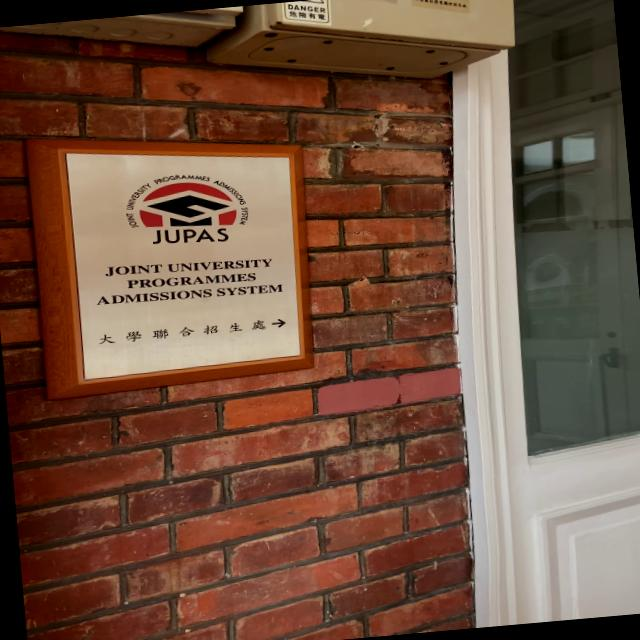jupasOffice: (9, 101, 328, 395)
